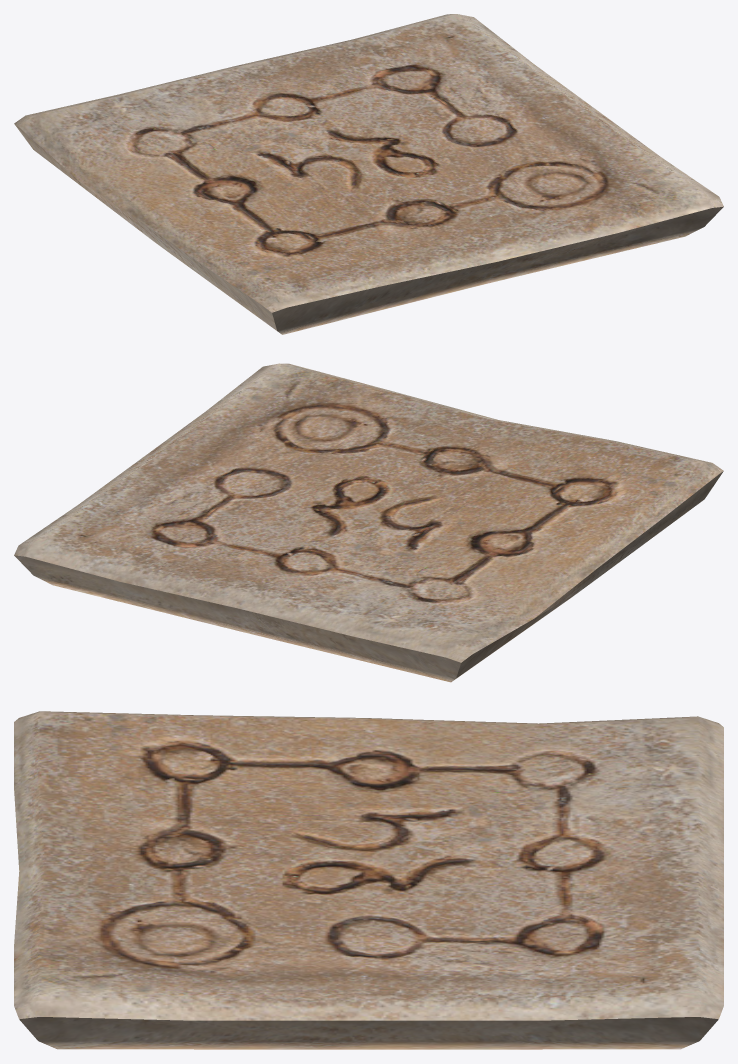
Rendered from side_top.obj.
3 views of the same model, one above another, from view 1: azimuth 30°, elevation 25°; view 2: azimuth 150°, elevation 25°; view 3: azimuth 270°, elevation 25° (orthographic). The views are drawn at different scales.
Visible parts, largest first — view 1: top polySurface8 polySurface5 polySurface3 polySurface1 pCube1; view 2: top polySurface8 polySurface5 polySurface3 polySurface1 pCube1; view 3: top polySurface8 polySurface5 polySurface3 polySurface1 pCube1.
Part boxes in pixels (x1,y1,x2,y2): top polySurface8 polySurface5 polySurface3 polySurface1 pCube1: [14, 14, 723, 334]; top polySurface8 polySurface5 polySurface3 polySurface1 pCube1: [14, 363, 723, 682]; top polySurface8 polySurface5 polySurface3 polySurface1 pCube1: [14, 711, 723, 1049].
Bounding box in the file's own units: 4.85 × 0.4974 × 4.85.
